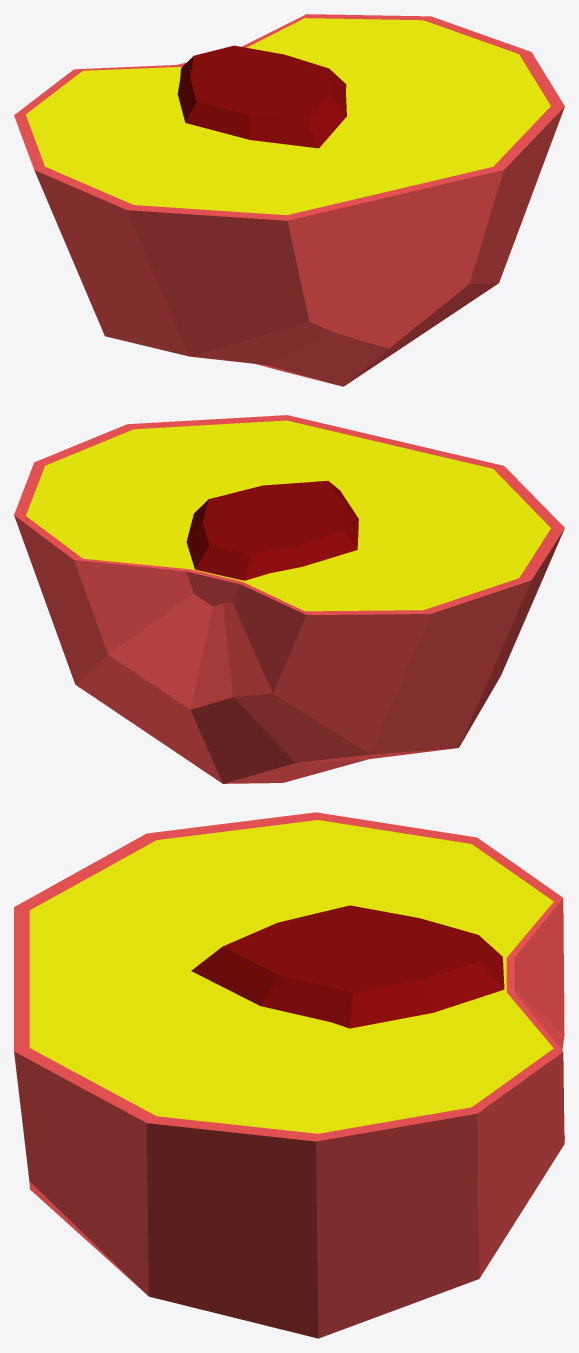
Rendered from peach02.obj.
3 renders of one model, top to bottom at view 1: azimuth 30°, elevation 25°; view 2: azimuth 150°, elevation 25°; view 3: azimuth 270°, elevation 25°, orthographic. The views are drawn at different scales.
Parts seen in each view (by area): view 1: Cylinder; view 2: Cylinder; view 3: Cylinder.
Boxes of the visible parts, x1,y1,x2,y2 form: Cylinder: (14,14,564,386); Cylinder: (14,415,564,783); Cylinder: (14,812,564,1338).
Bounding box in the file's own units: 0.089 × 0.0475 × 0.0638.
Materials: 1 (1 with a texture image).
